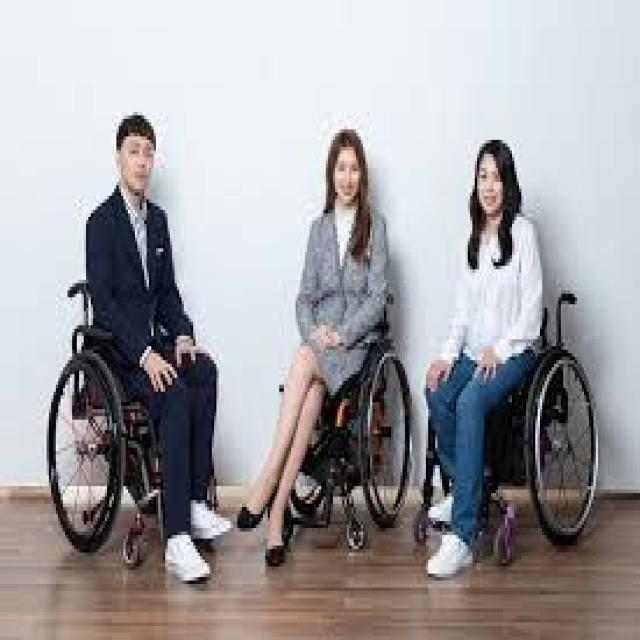wheelchair: (46, 113, 230, 585), (423, 128, 600, 574), (238, 127, 413, 558)
